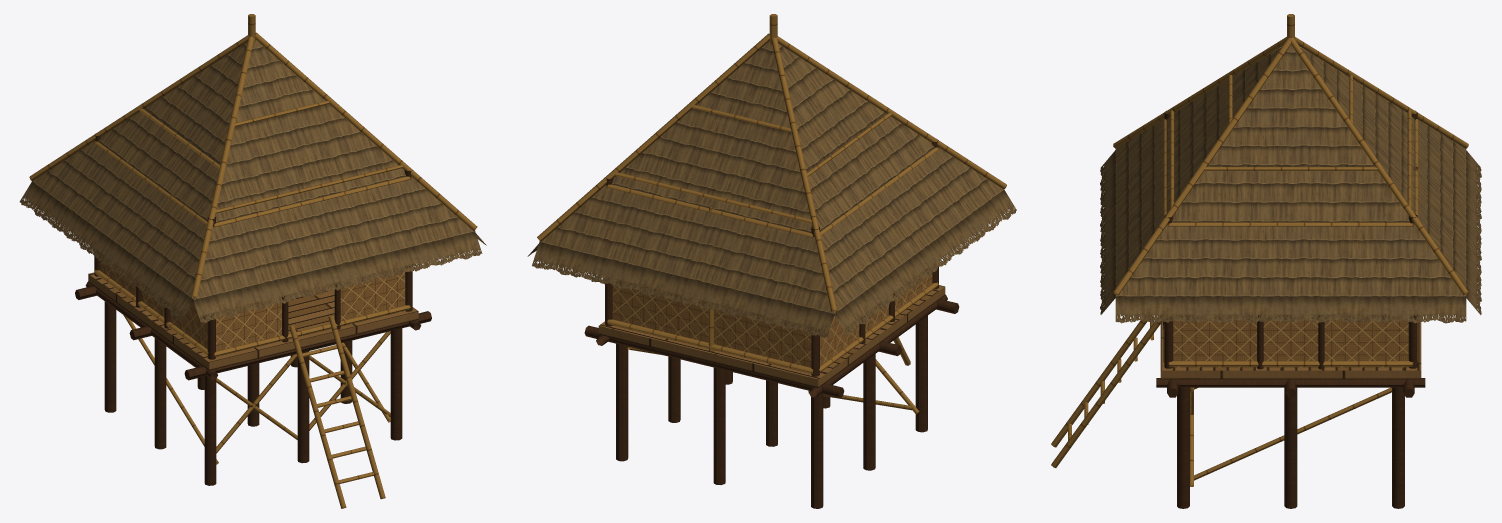
3 renders of one model, left to right at view 1: azimuth 30°, elevation 25°; view 2: azimuth 150°, elevation 25°; view 3: azimuth 270°, elevation 25°, orthographic. The views are drawn at different scales.
Parts seen in each view (by area): view 1: hut_kalinga_0; view 2: hut_kalinga_0; view 3: hut_kalinga_0.
Boxes of the visible parts, x1=… form: hut_kalinga_0: x1=19, y1=14, x2=486, y2=508; hut_kalinga_0: x1=527, y1=14, x2=1016, y2=508; hut_kalinga_0: x1=1051, y1=14, x2=1481, y2=508.
Bounding box in the file's own units: 4.82 × 5.97 × 5.35.
6 materials, 6 textured.
